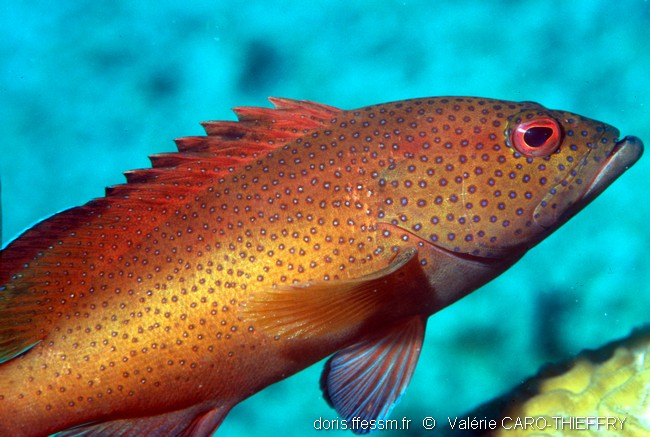Cephalopholis_fulvaw: (1, 72, 647, 432)
